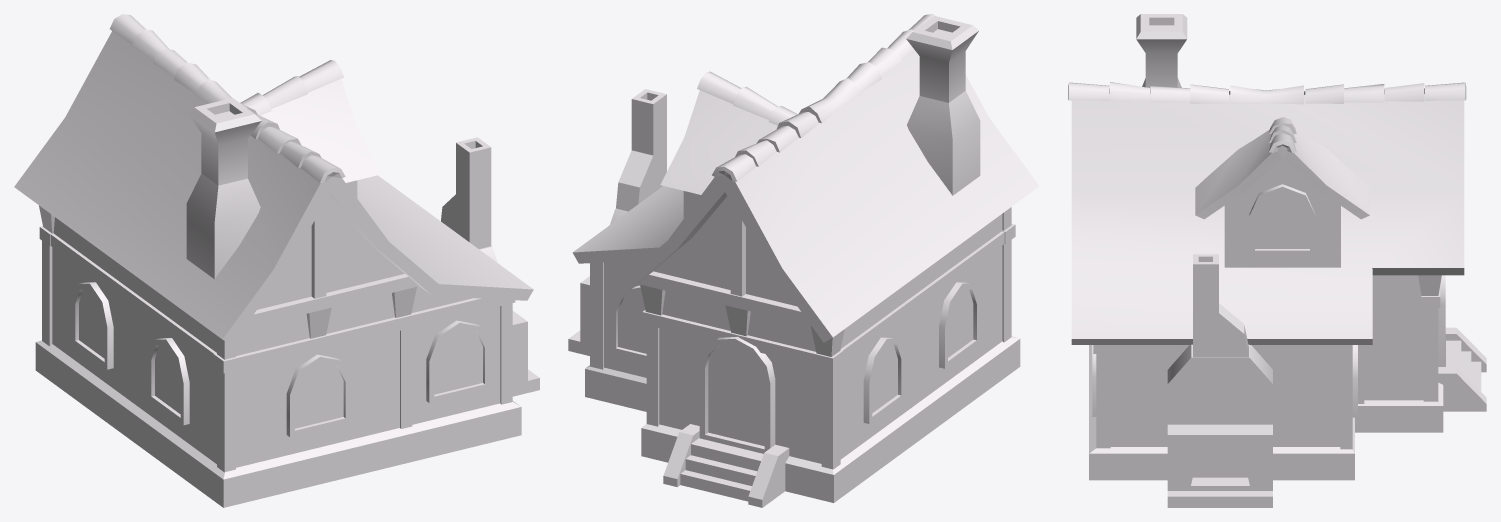
Rendered from BakerHouse.fbx.
3 views of the same model, side by side, from view 1: azimuth 30°, elevation 25°; view 2: azimuth 150°, elevation 25°; view 3: azimuth 270°, elevation 25° (orthographic). The views are drawn at different scales.
Parts seen in each view (by area): view 1: Baker_house, Chimney; view 2: Baker_house, Chimney; view 3: Baker_house, Chimney.
Boxes of the visible parts, left/top/right/bottom form: Baker_house: left=14, top=14, right=533, bottom=507; Chimney: left=441, top=137, right=539, bottom=396; Baker_house: left=572, top=14, right=1039, bottom=507; Chimney: left=568, top=89, right=666, bottom=355; Baker_house: left=1068, top=14, right=1486, bottom=480; Chimney: left=1167, top=254, right=1272, bottom=507.
Size of the model in its own units: 3.8 by 3.54 by 3.97.
